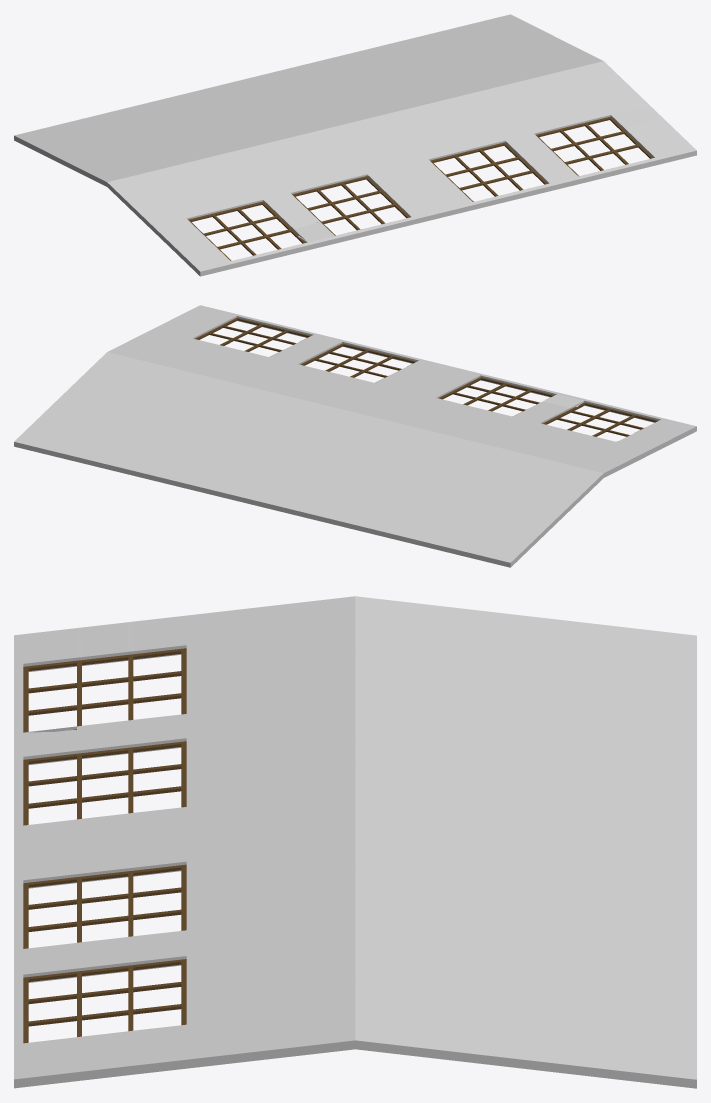
Rendered from ROOF.fbx.
3 views of the same model, one above another, from view 1: azimuth 30°, elevation 25°; view 2: azimuth 150°, elevation 25°; view 3: azimuth 270°, elevation 25° (orthographic). The views are drawn at different scales.
Visible parts, largest first — view 1: Cube.007; view 2: Cube.007; view 3: Cube.007.
Part boxes in pixels (x1=…): Cube.007: x1=14, y1=14, x2=696, y2=276; Cube.007: x1=14, y1=305, x2=696, y2=567; Cube.007: x1=14, y1=596, x2=696, y2=1088.
Bounding box in the file's own units: 1700 × 86.28 × 1105.
